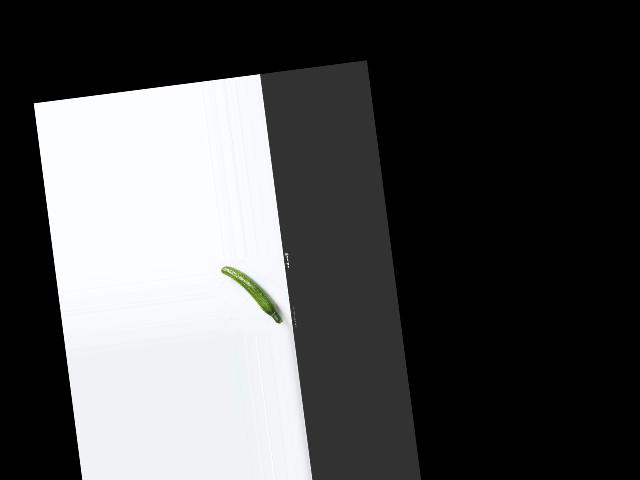cucumber: (221, 260, 283, 331)
